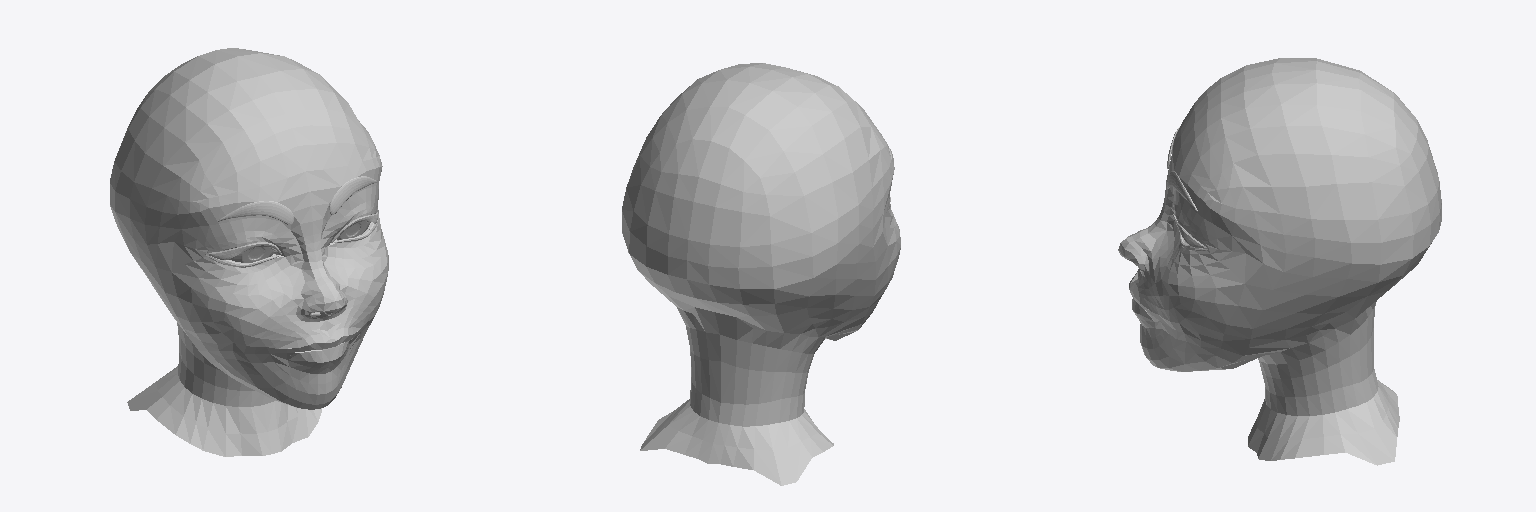
File: neutral.obj
3 renders of one model, left to right at view 1: azimuth 30°, elevation 25°; view 2: azimuth 150°, elevation 25°; view 3: azimuth 270°, elevation 25°, orthographic.
Visible parts, largest first — view 1: neutral_body_Plane.006; view 2: neutral_body_Plane.006; view 3: neutral_body_Plane.006.
Part boxes in pixels (left/top/right/bottom): neutral_body_Plane.006: left=110, top=48, right=388, bottom=456; neutral_body_Plane.006: left=622, top=63, right=900, bottom=485; neutral_body_Plane.006: left=1118, top=58, right=1441, bottom=465.
Bounding box in the file's own units: 0.7869 × 1.29 × 1.01.